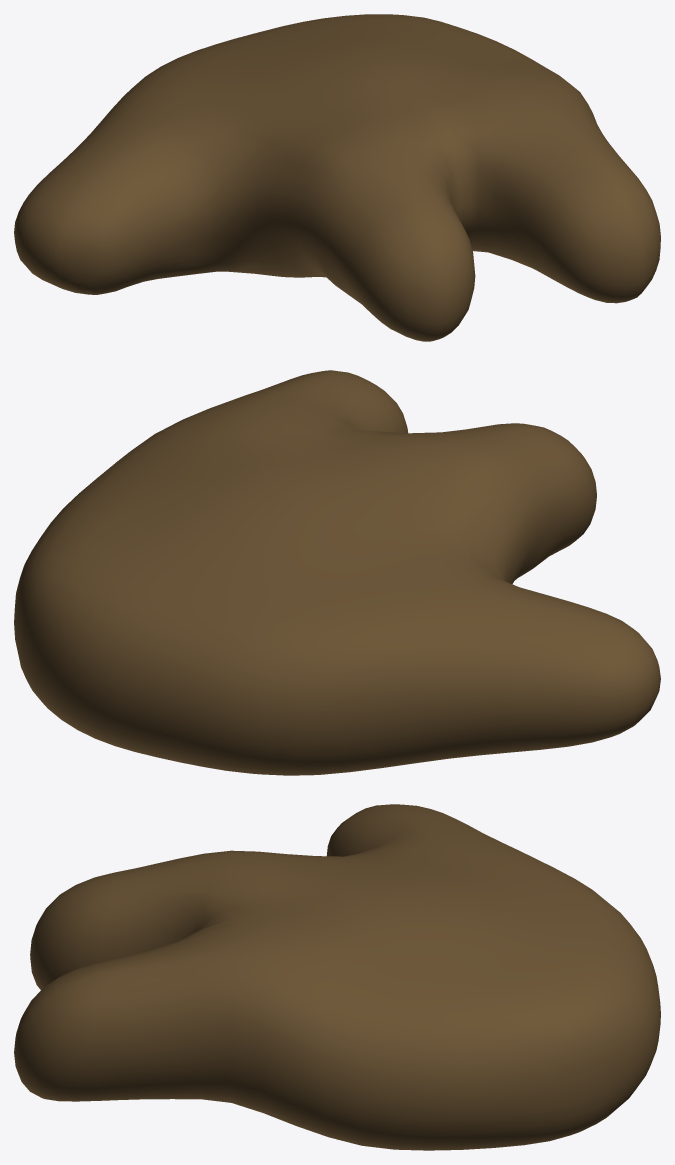
The model's file is left-hand.fbx.
The picture shows the model from 3 angles, top to bottom: view 1: azimuth 30°, elevation 25°; view 2: azimuth 150°, elevation 25°; view 3: azimuth 270°, elevation 25°; orthographic projection. The views are drawn at different scales.
Visible parts, largest first — view 1: Left Hand; view 2: Left Hand; view 3: Left Hand.
Boxes of the visible parts, x1=… form: Left Hand: x1=14, y1=14, x2=660, y2=341; Left Hand: x1=14, y1=370, x2=660, y2=775; Left Hand: x1=14, y1=804, x2=660, y2=1150.
Size of the model in its own units: 15.99 by 5.25 by 15.84.
